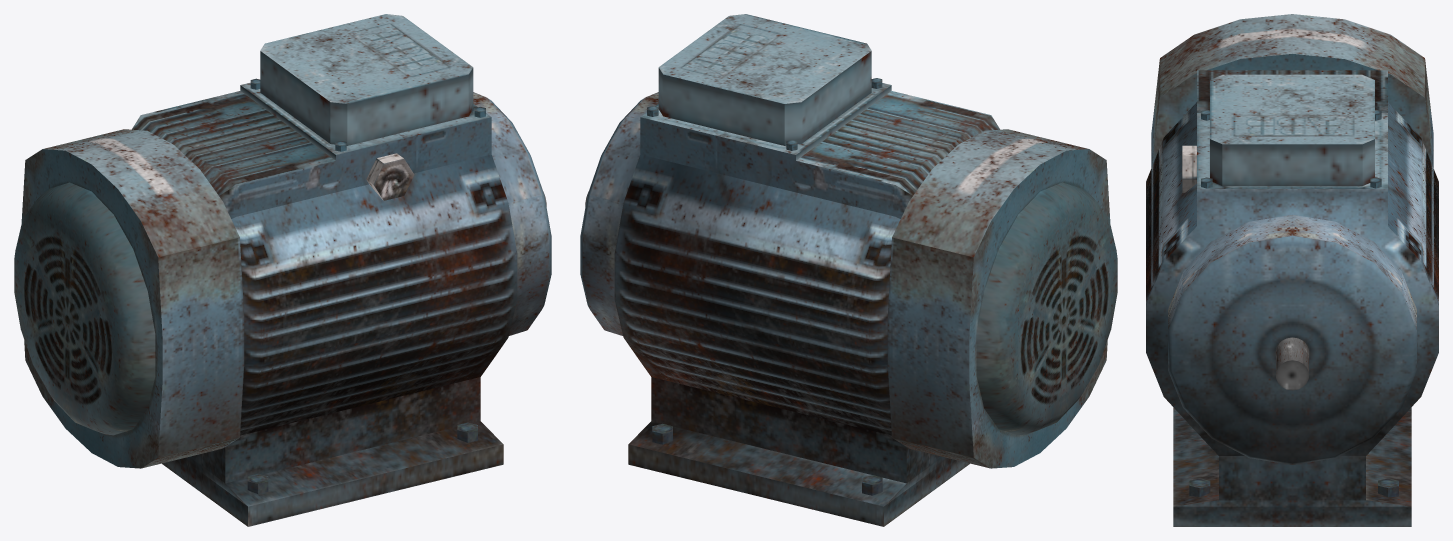
File: Crane01_Motor.FBX
The picture shows the model from 3 angles, left to right: view 1: azimuth 30°, elevation 25°; view 2: azimuth 150°, elevation 25°; view 3: azimuth 270°, elevation 25°; orthographic projection.
Parts seen in each view (by area): view 1: Engine02; view 2: Engine02; view 3: Engine02.
Part boxes in pixels (<box>): Engine02: <box>14,14,551,526</box>; Engine02: <box>580,14,1117,526</box>; Engine02: <box>1146,14,1438,526</box>.
Size of the model in its own units: 34.36 by 26.56 by 18.56.
